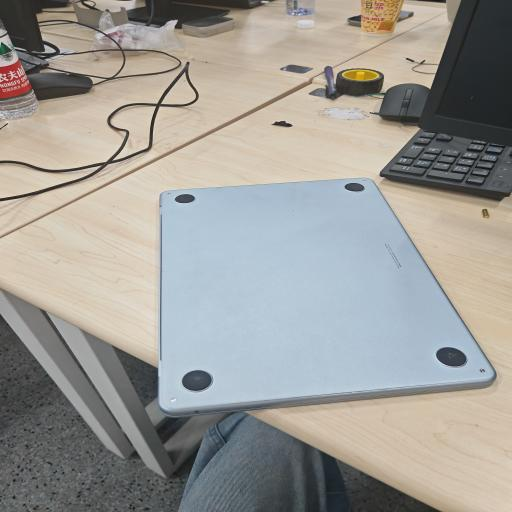laptop: (159, 178, 495, 416)
mouse: (378, 83, 430, 124), (27, 73, 93, 100)
